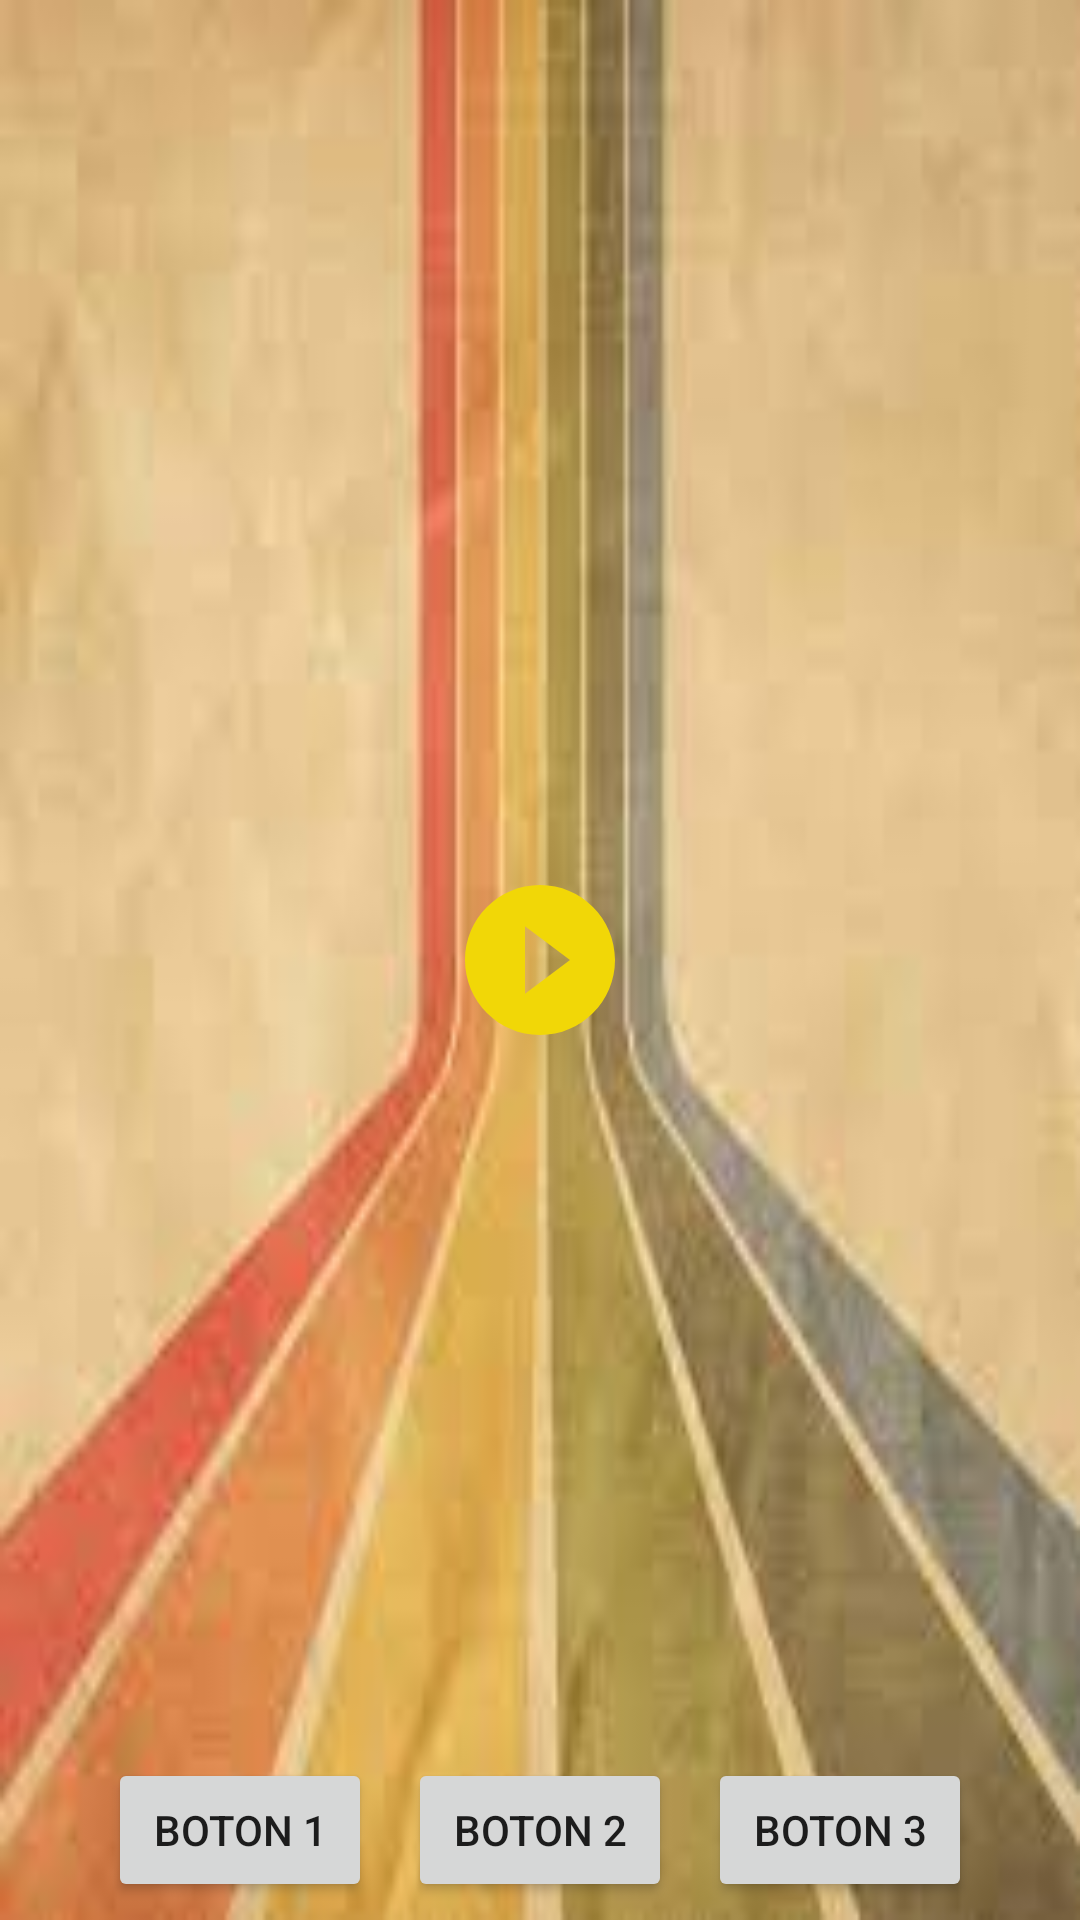

Icon click points for this 1080w x 1920h phone screenshot, format (x,y):
play circle: (540,960)
